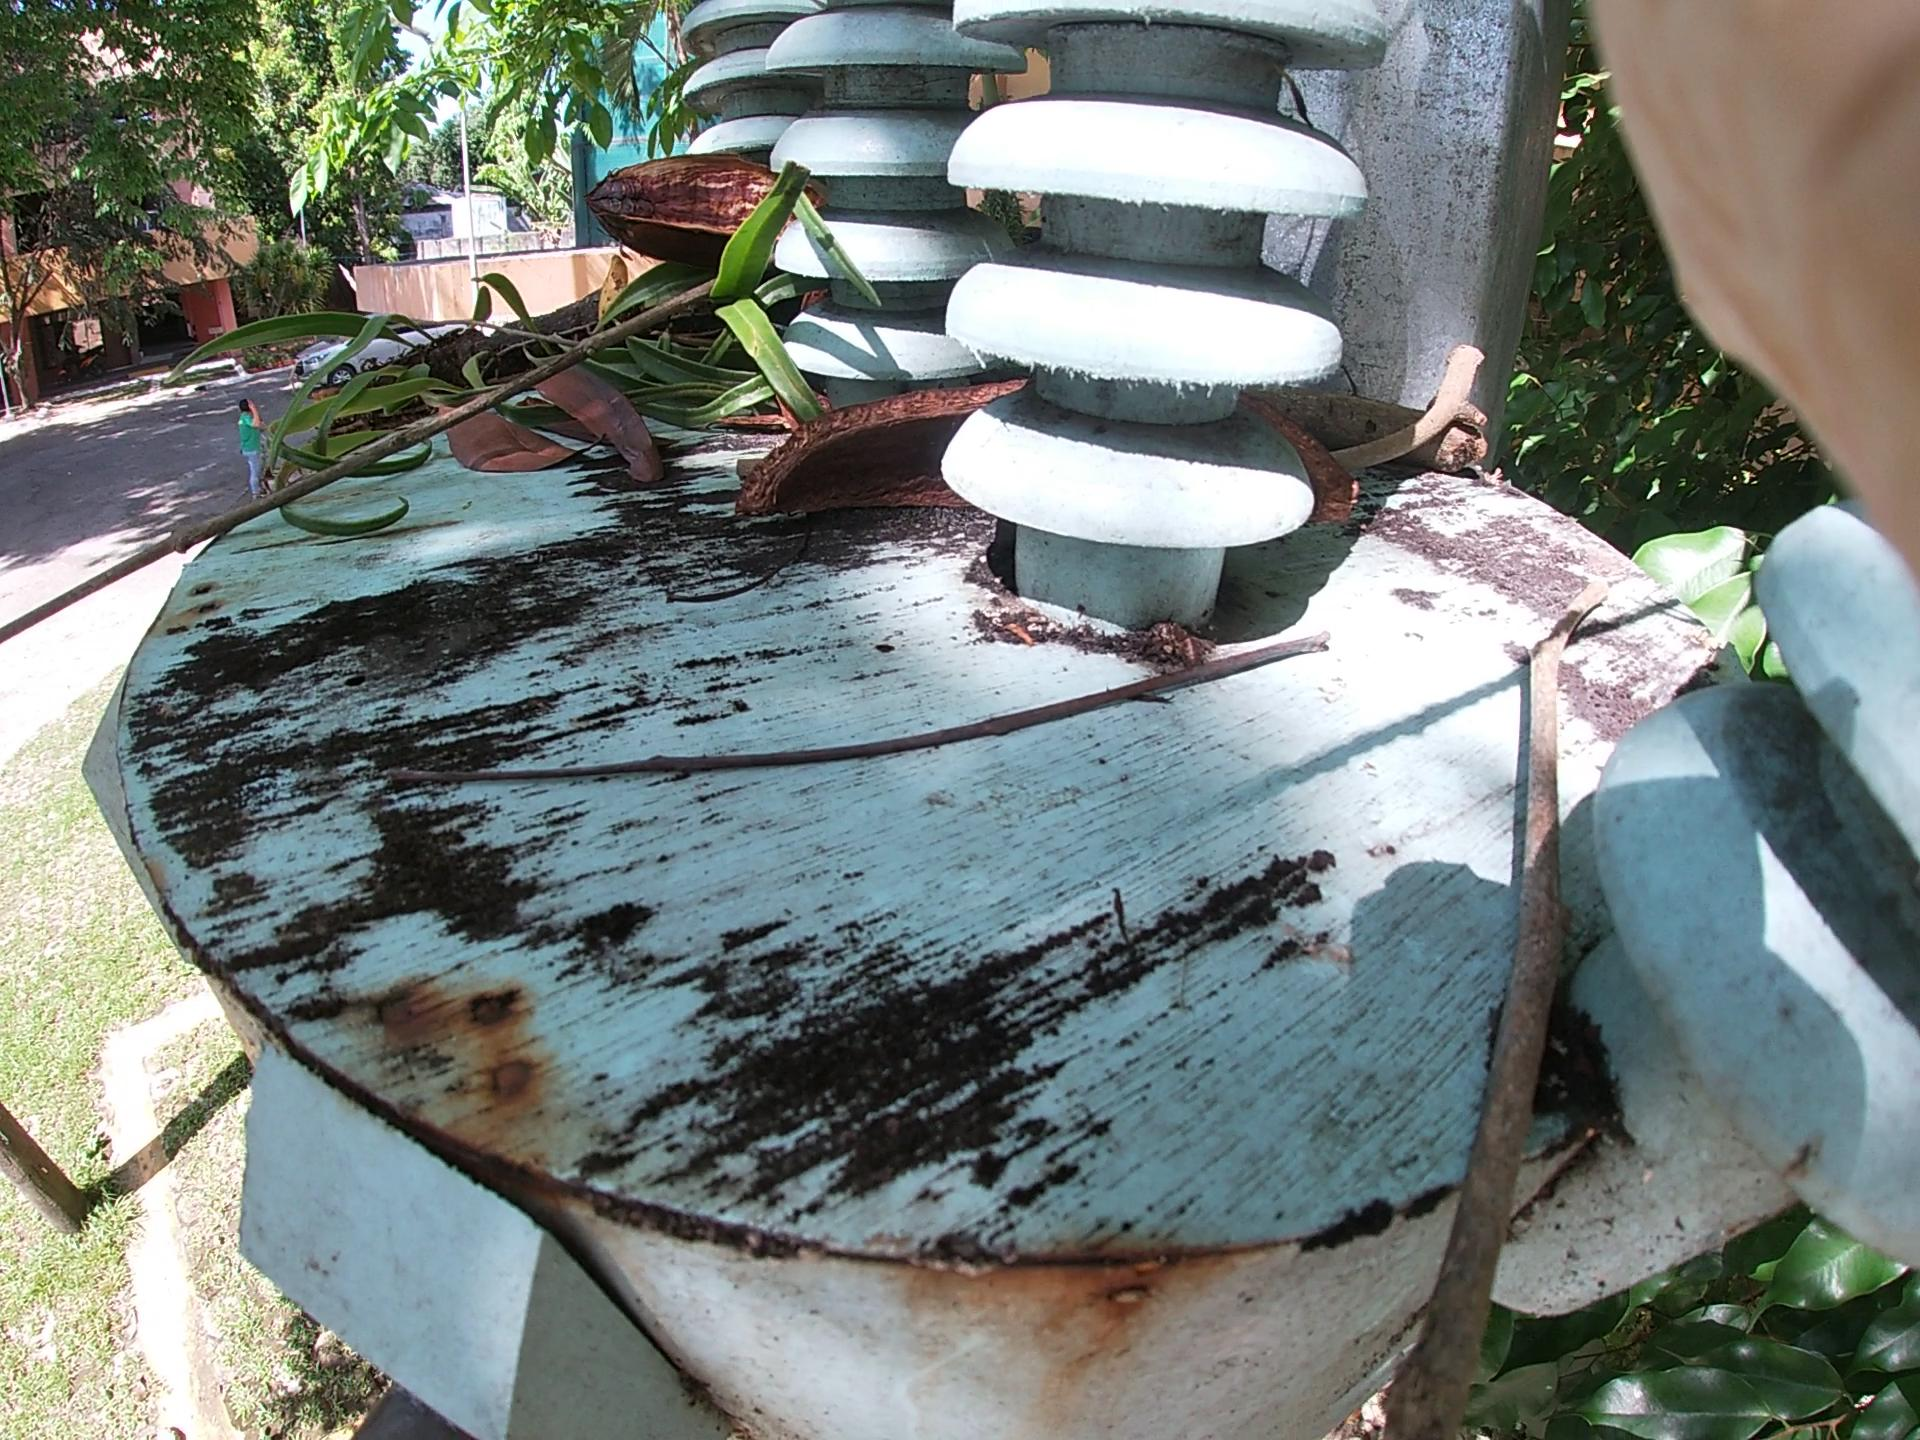branch with leaves: (239, 213, 774, 466)
mahogany fruit: (659, 313, 1442, 576), (547, 151, 1002, 312)
tree branch: (54, 271, 750, 555), (1491, 560, 1625, 1413), (417, 641, 1294, 725), (1302, 312, 1485, 517)
